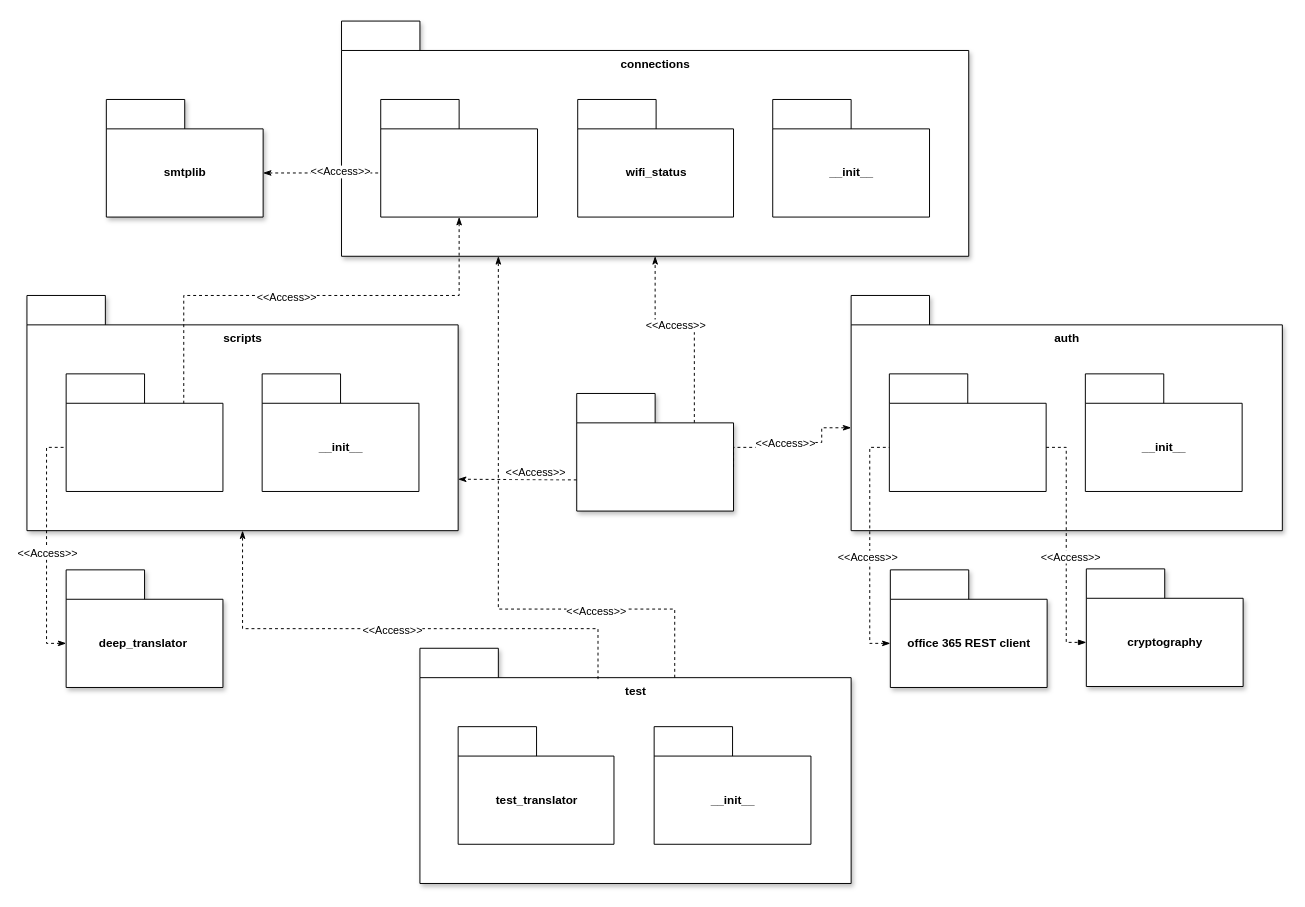
Some shapes in this 1305 by 907 pixel diagram are drawn without their labels. The shapes that lost their labels are listed below. From the top down, each one's centre as x and y in pixels, then its label:
At (459,157): "email_conn".
At (144,432): "text_input".
At (967,432): "sharepoint_credentials".
At (655,453): "__main__".
